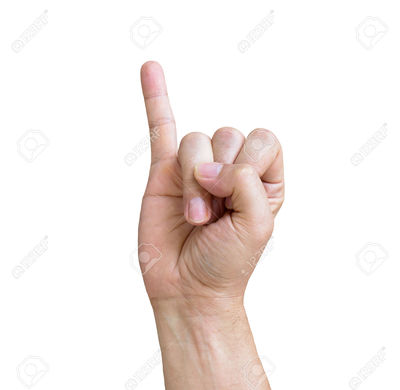closedhandfront: (111, 128, 317, 292)
mindinho: (133, 37, 182, 173)
